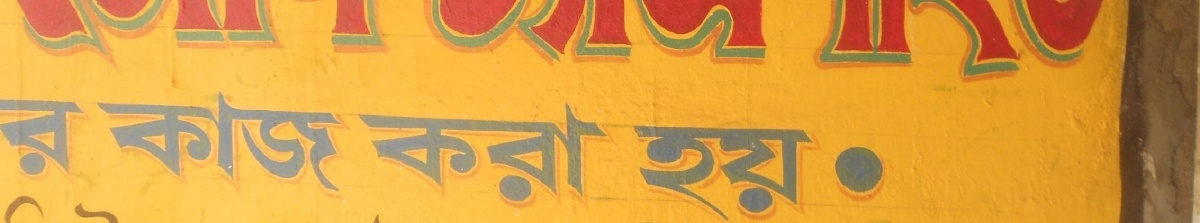text: (369, 95, 384, 207), (385, 95, 400, 207), (401, 95, 416, 207), (417, 95, 432, 207), (433, 95, 448, 207), (449, 95, 464, 207), (465, 95, 480, 207), (481, 95, 496, 207), (497, 95, 512, 207), (513, 95, 528, 207), (529, 95, 544, 207), (545, 95, 560, 207), (561, 95, 576, 207), (577, 95, 592, 207), (593, 95, 608, 207), (113, 87, 128, 197), (129, 87, 144, 197), (145, 87, 160, 197), (161, 87, 176, 197), (177, 87, 192, 197), (193, 87, 208, 197), (209, 87, 224, 197), (225, 87, 240, 197), (241, 87, 256, 197), (257, 87, 272, 197), (273, 87, 288, 197), (289, 87, 304, 197), (305, 87, 320, 197), (321, 87, 336, 197), (355, 95, 368, 207), (641, 123, 656, 219), (657, 123, 672, 219), (673, 123, 688, 219), (689, 123, 704, 219), (705, 123, 720, 219), (721, 123, 736, 219), (737, 123, 752, 219), (753, 123, 768, 219), (769, 123, 784, 219), (785, 123, 800, 219), (801, 123, 816, 219), (100, 87, 112, 197), (65, 102, 81, 172), (17, 102, 32, 172), (33, 102, 48, 172), (49, 102, 64, 172), (337, 87, 346, 197), (2, 102, 16, 172), (17, 1, 32, 63), (33, 1, 48, 63), (49, 1, 64, 63), (65, 1, 80, 63), (81, 1, 96, 63), (97, 1, 112, 63), (113, 1, 128, 63), (129, 1, 144, 63), (145, 1, 160, 63), (161, 1, 176, 63), (177, 1, 192, 63), (193, 1, 208, 63), (209, 1, 224, 63), (225, 1, 240, 63), (241, 1, 256, 63), (257, 1, 272, 63), (273, 1, 288, 63), (289, 1, 304, 63), (305, 1, 320, 63), (321, 1, 336, 63), (337, 1, 352, 63), (353, 1, 368, 63), (369, 1, 384, 63), (385, 1, 400, 63), (401, 1, 416, 63), (417, 1, 432, 63), (433, 1, 448, 63), (449, 1, 464, 63), (465, 1, 480, 63), (481, 1, 496, 63), (497, 1, 512, 63), (513, 1, 528, 63), (529, 1, 544, 63), (545, 1, 560, 63), (561, 1, 576, 63), (577, 1, 592, 63), (593, 1, 608, 63), (609, 1, 624, 63), (625, 1, 640, 63), (641, 1, 656, 63), (657, 1, 672, 63), (673, 1, 688, 63), (689, 1, 704, 63), (705, 1, 720, 63), (721, 1, 736, 63), (737, 1, 752, 63), (753, 1, 768, 63), (769, 1, 784, 63), (785, 1, 800, 63), (801, 1, 816, 63), (817, 1, 832, 63), (833, 1, 848, 63), (849, 1, 864, 63), (865, 1, 880, 63), (881, 1, 896, 63), (897, 1, 912, 63), (913, 1, 928, 63), (929, 1, 944, 63), (945, 1, 960, 63), (961, 1, 976, 63), (977, 1, 992, 63), (993, 1, 1008, 63), (1009, 1, 1024, 63), (1025, 1, 1040, 63), (1041, 1, 1056, 63), (1057, 1, 1072, 63), (1073, 1, 1088, 63), (1089, 1, 1104, 63), (833, 144, 848, 196), (849, 144, 864, 196), (865, 144, 880, 196), (634, 123, 640, 219), (881, 144, 889, 196), (17, 198, 32, 223), (33, 198, 48, 223), (49, 198, 64, 223), (65, 198, 80, 223), (81, 198, 96, 223), (97, 198, 112, 223), (2, 198, 16, 223), (961, 58, 976, 81), (977, 58, 992, 81), (993, 58, 1008, 81), (1009, 58, 1024, 81), (13, 1, 16, 63), (113, 198, 119, 223), (369, 213, 384, 223), (957, 58, 960, 81), (1025, 58, 1027, 81), (367, 213, 368, 223)
